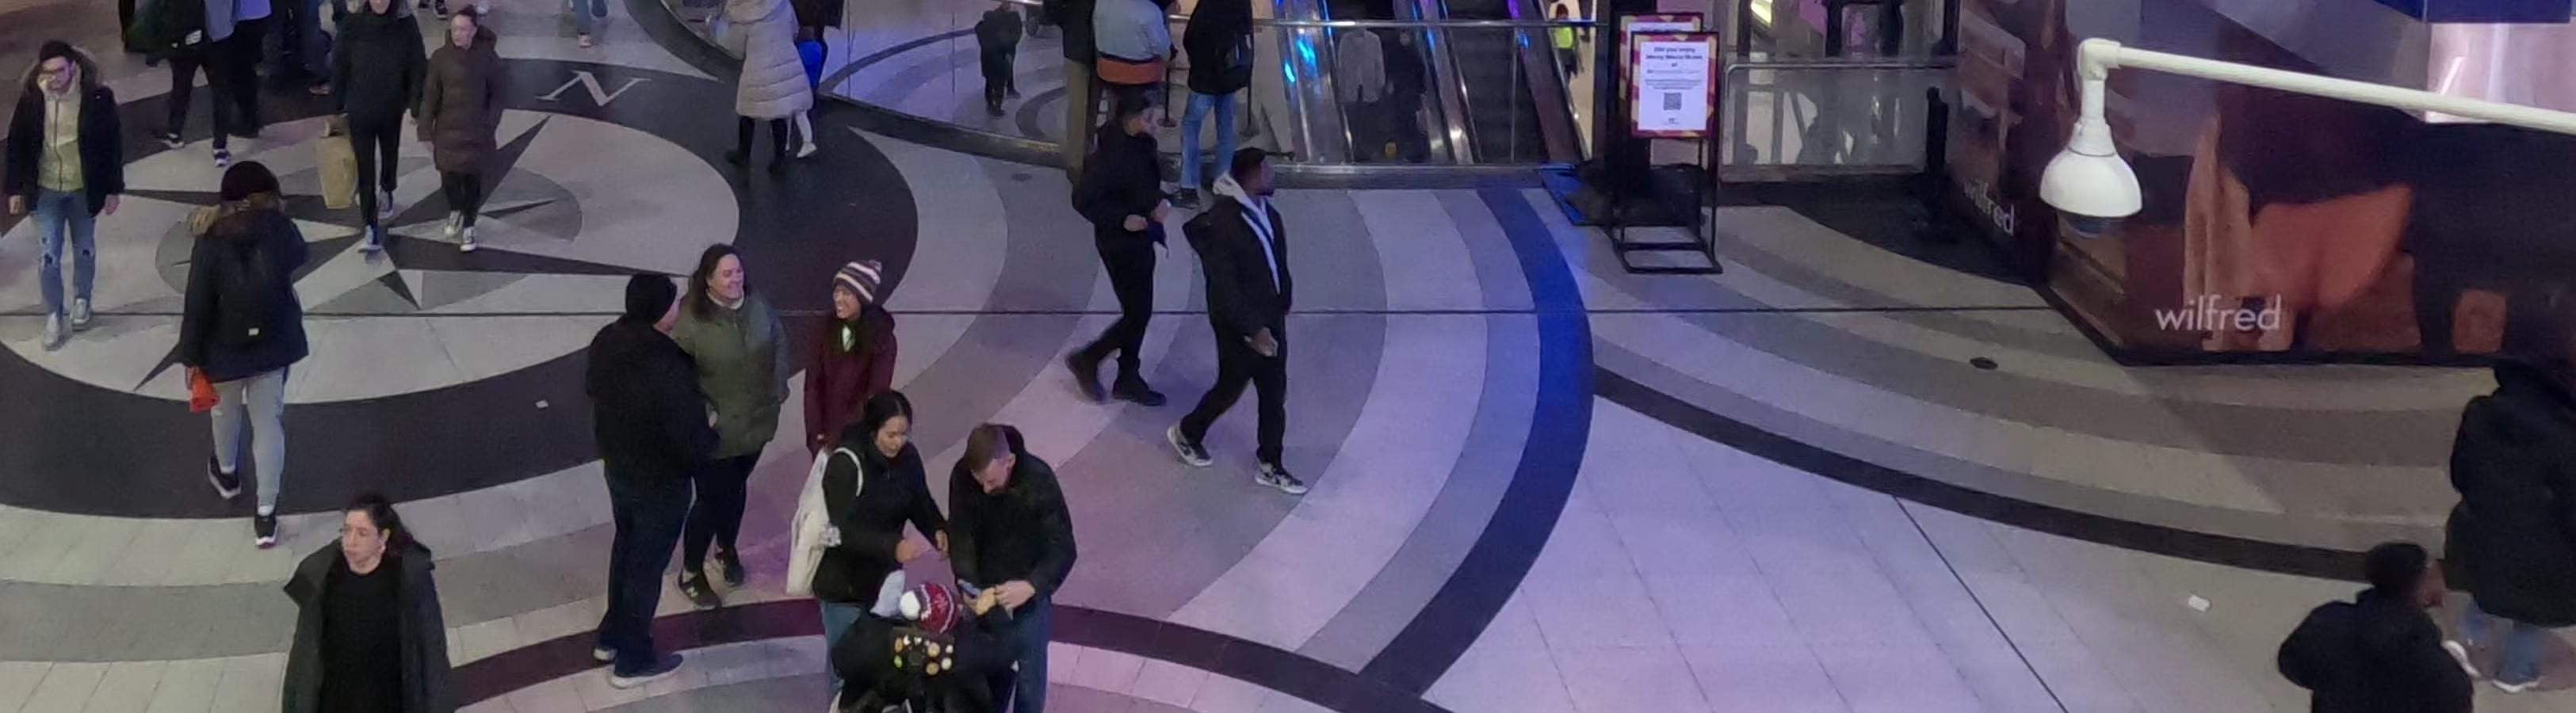person: (159, 150, 306, 547), (587, 280, 709, 694), (1172, 138, 1315, 488), (667, 241, 788, 595), (261, 496, 445, 713), (948, 409, 1077, 712), (13, 36, 134, 341), (816, 377, 940, 670), (1074, 91, 1179, 419), (793, 237, 891, 471), (330, 1, 413, 270), (427, 11, 518, 241), (694, 1, 817, 167)
